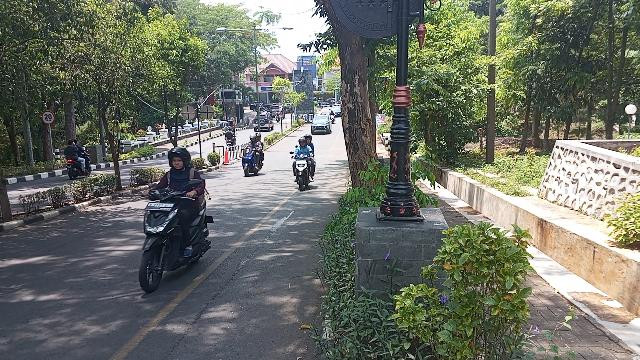helm: (168, 148, 193, 172), (299, 138, 307, 148), (306, 135, 313, 145), (251, 135, 258, 143), (256, 133, 262, 142)
motor: (137, 178, 216, 295), (291, 150, 316, 193), (242, 145, 265, 178)
